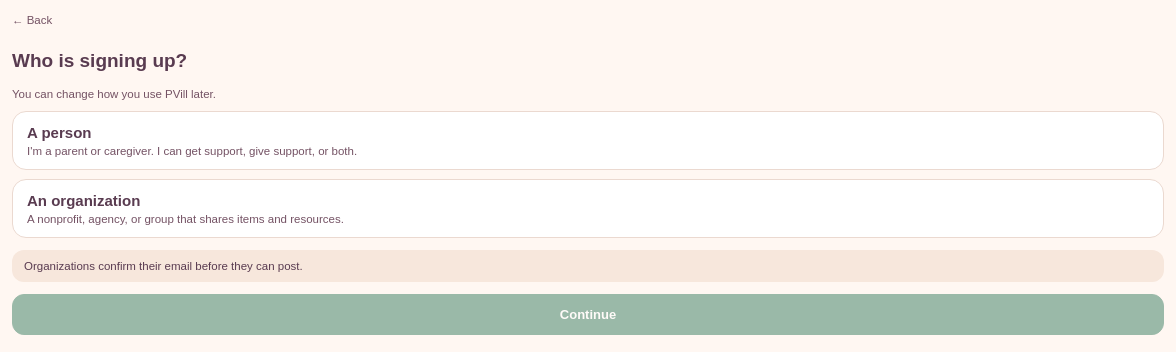
AccountTypePage › keeps Continue disabled until a card is picked
The image size is (1176, 352).
Expected: the button "Continue" is disabled, [12, 294, 1164, 335]
Click the radio button labelled "A person".
click(59, 133)  # box [12, 111, 1164, 170]
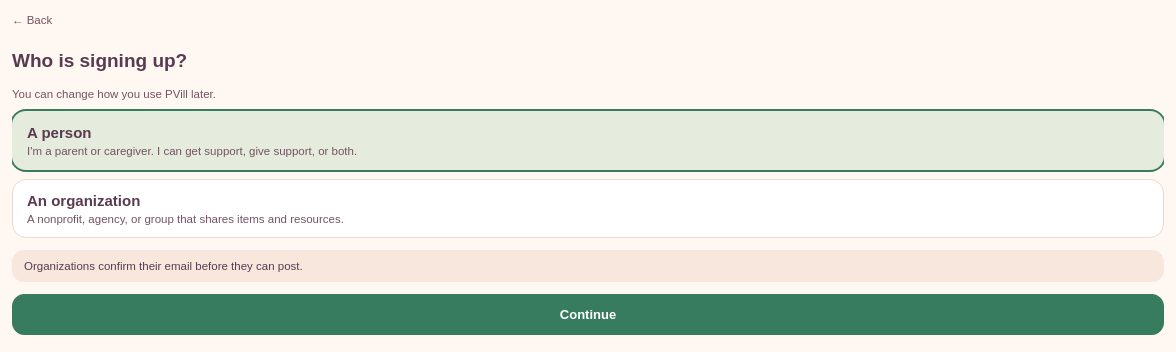
Expected: the button "Continue" is enabled, [12, 294, 1164, 335]
